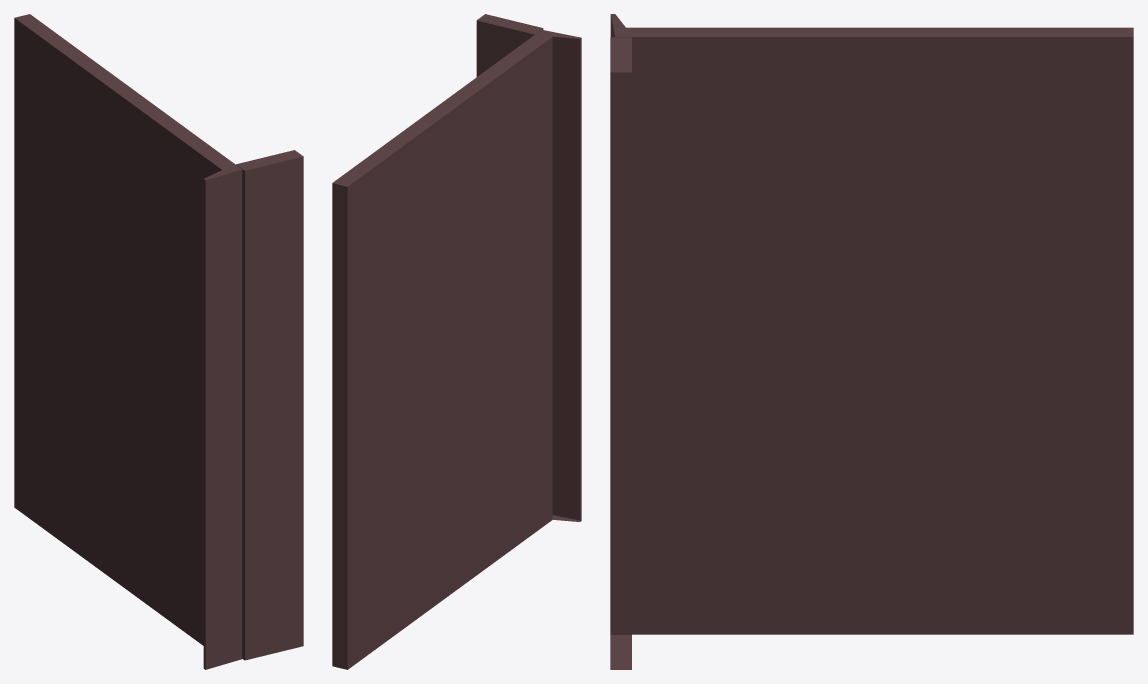
3 views of the same model, side by side, from view 1: azimuth 30°, elevation 25°; view 2: azimuth 150°, elevation 25°; view 3: azimuth 270°, elevation 25° (orthographic). The views are drawn at different scales.
Visible parts, largest first — view 1: polySurface2632, polySurface2628; view 2: polySurface2632, polySurface2628; view 3: polySurface2632, polySurface2628.
Boxes of the visible parts, <box> form: polySurface2632: <box>14,14,242,669</box>; polySurface2628: <box>236,150,303,660</box>; polySurface2632: <box>332,30,581,669</box>; polySurface2628: <box>476,14,543,76</box>; polySurface2632: <box>610,14,1133,634</box>; polySurface2628: <box>610,37,631,669</box>.
Bounding box in the file's own units: 59.2 × 283 × 225.
